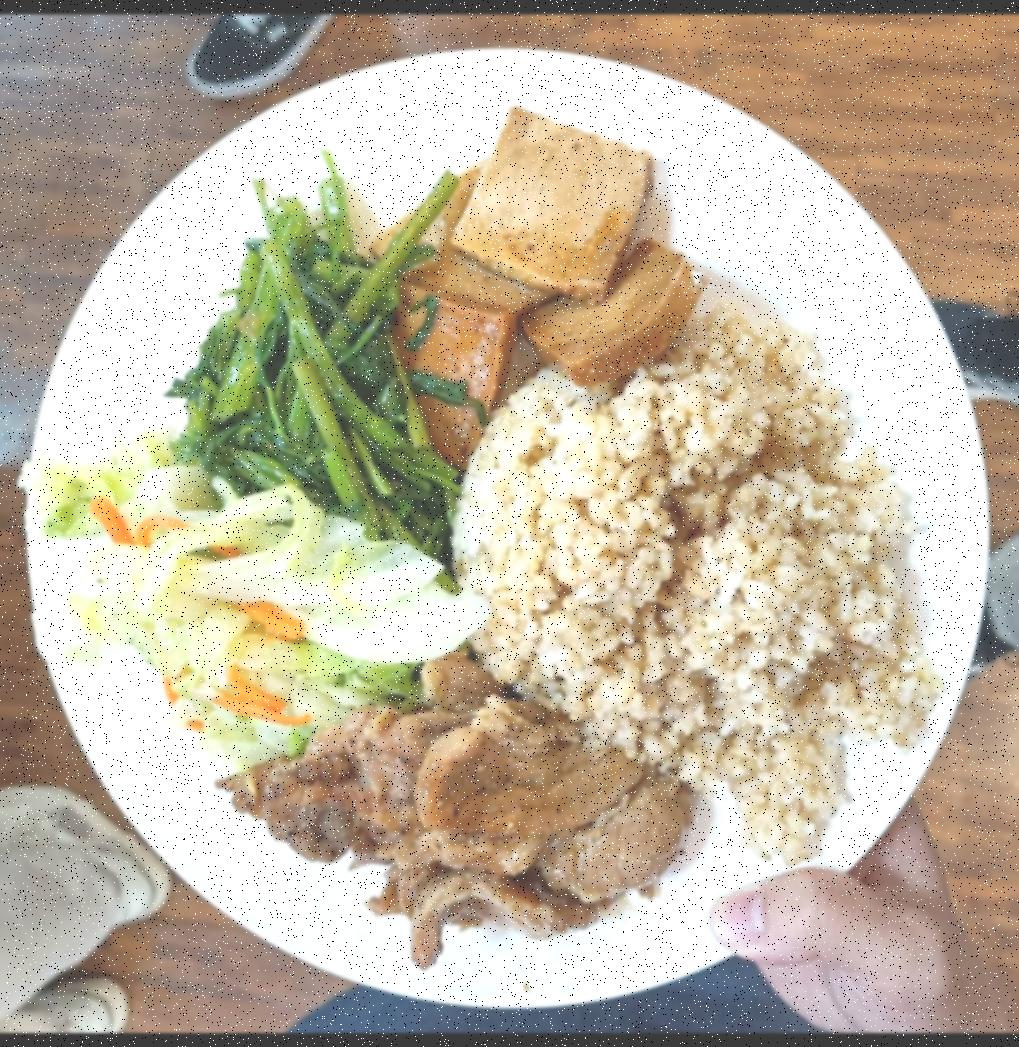brown rice: (441, 344, 942, 869)
plate: (11, 27, 996, 1025)
sauteed pork: (212, 675, 690, 960)
side dish: (27, 432, 472, 765), (374, 109, 697, 481), (169, 180, 467, 540)
